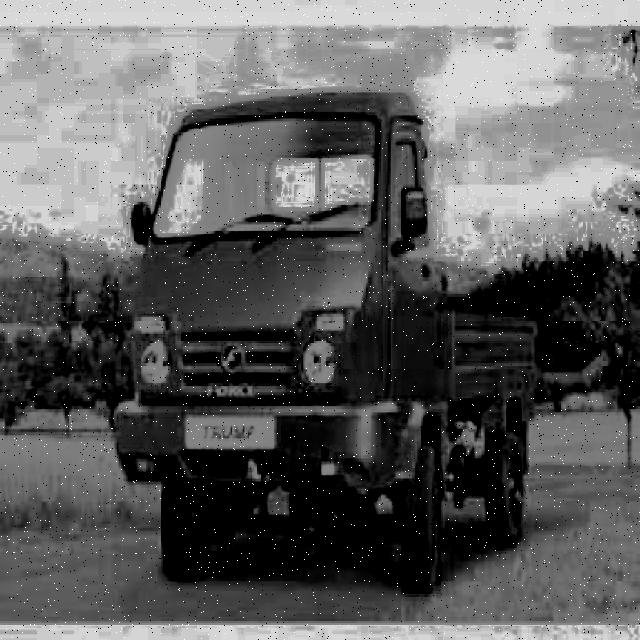LCV: (102, 92, 529, 577)
